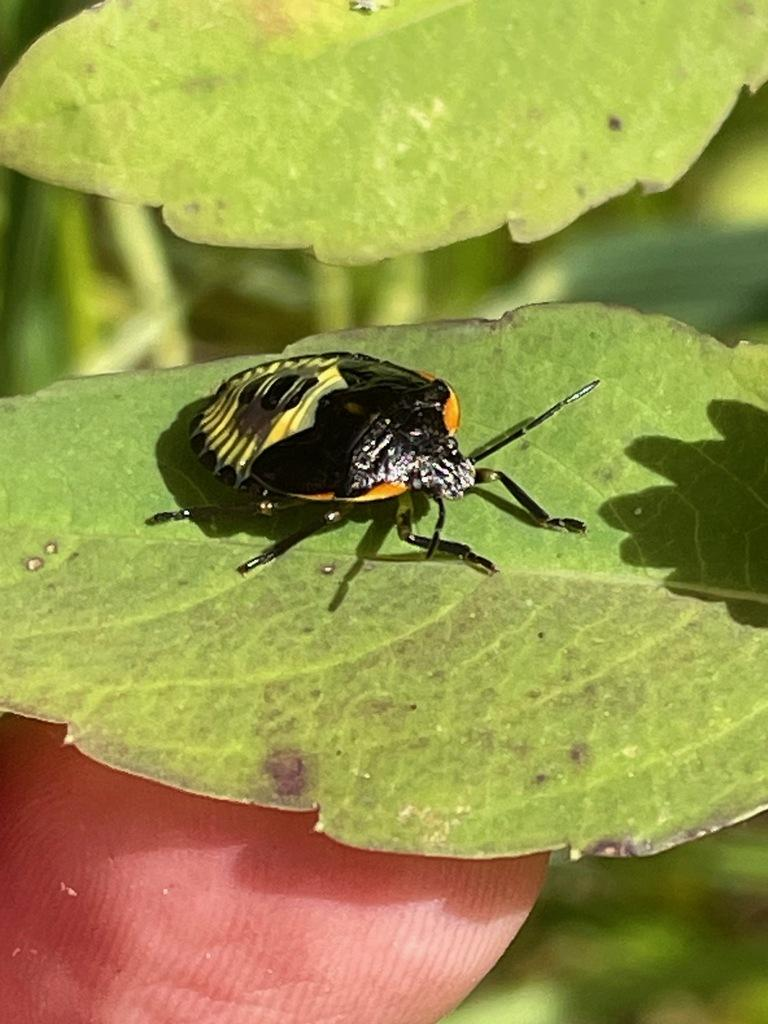stink_bugs: (110, 259, 656, 693)
